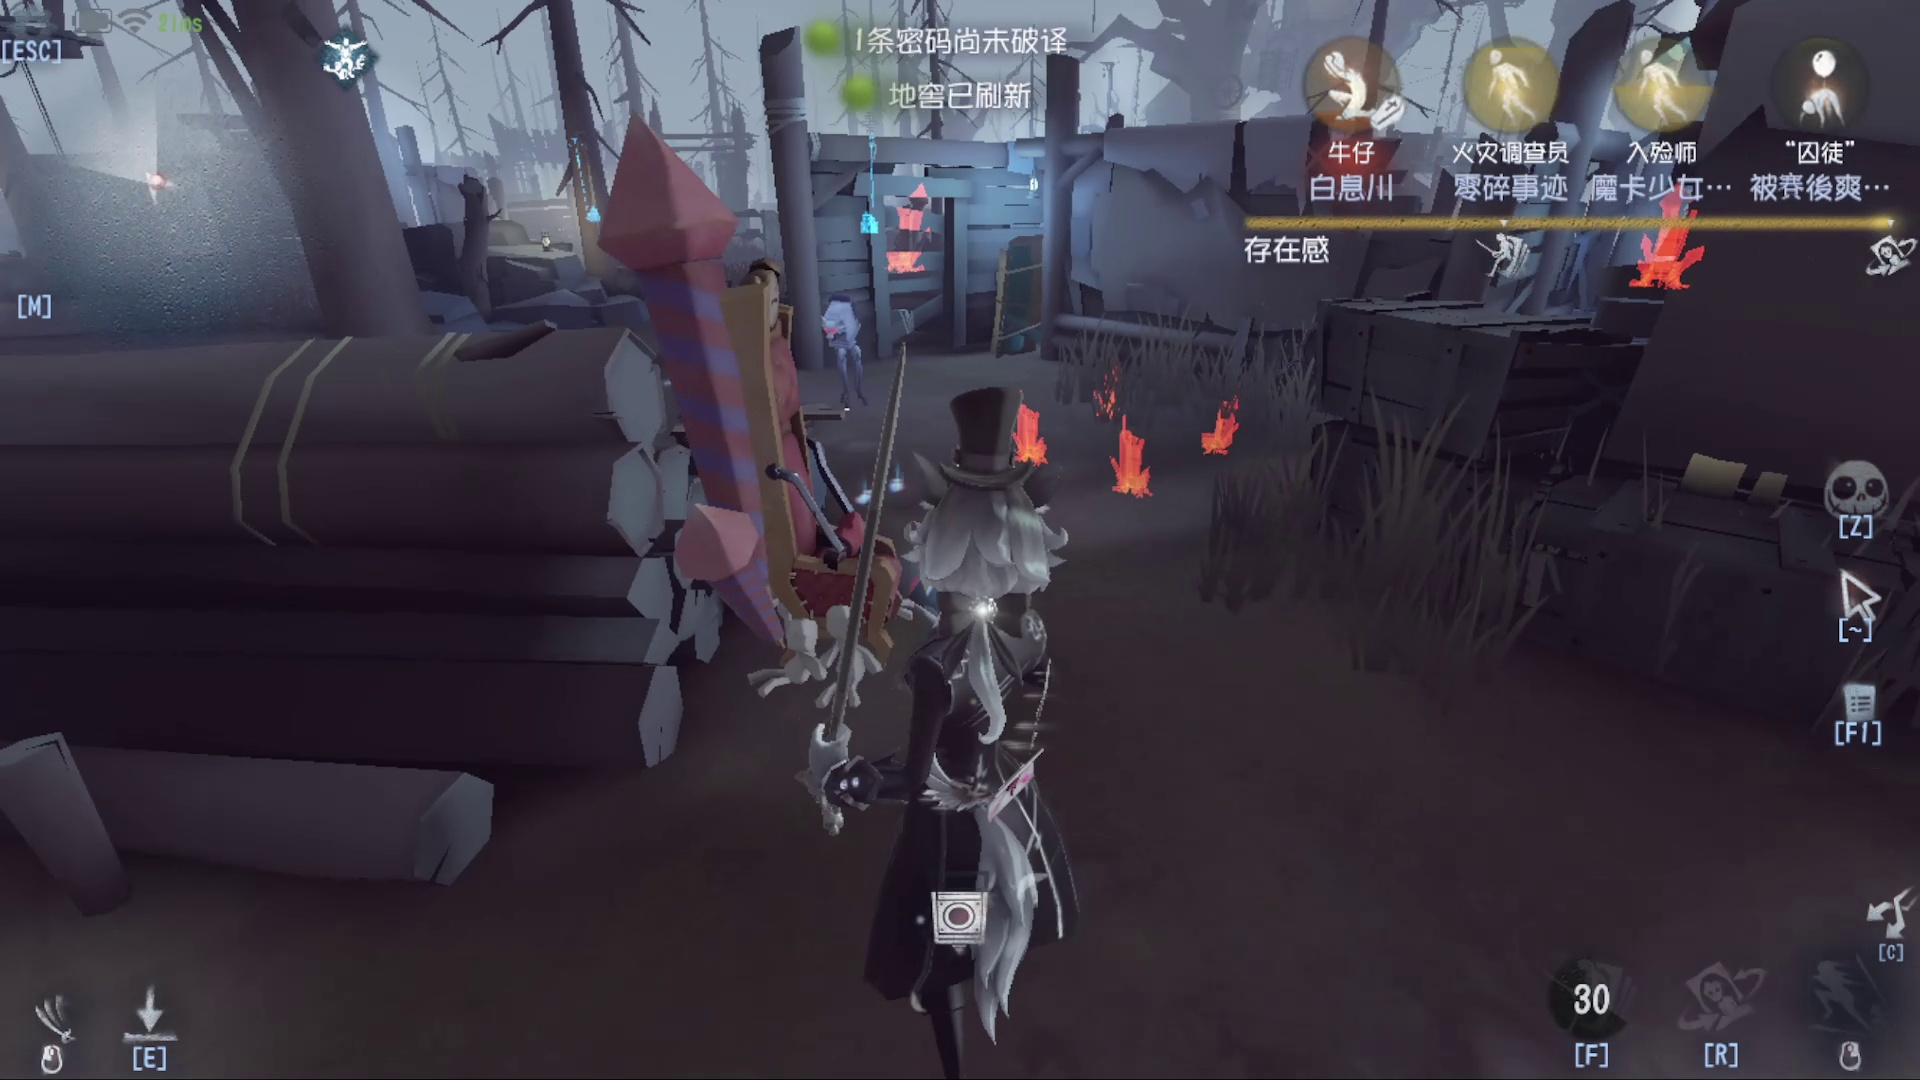密码机: (549, 124, 618, 241), (853, 120, 895, 240)
木板: (971, 239, 1064, 365)
狂欢之椅: (575, 99, 926, 691), (996, 375, 1063, 491), (1091, 423, 1170, 510), (1192, 382, 1254, 473)
